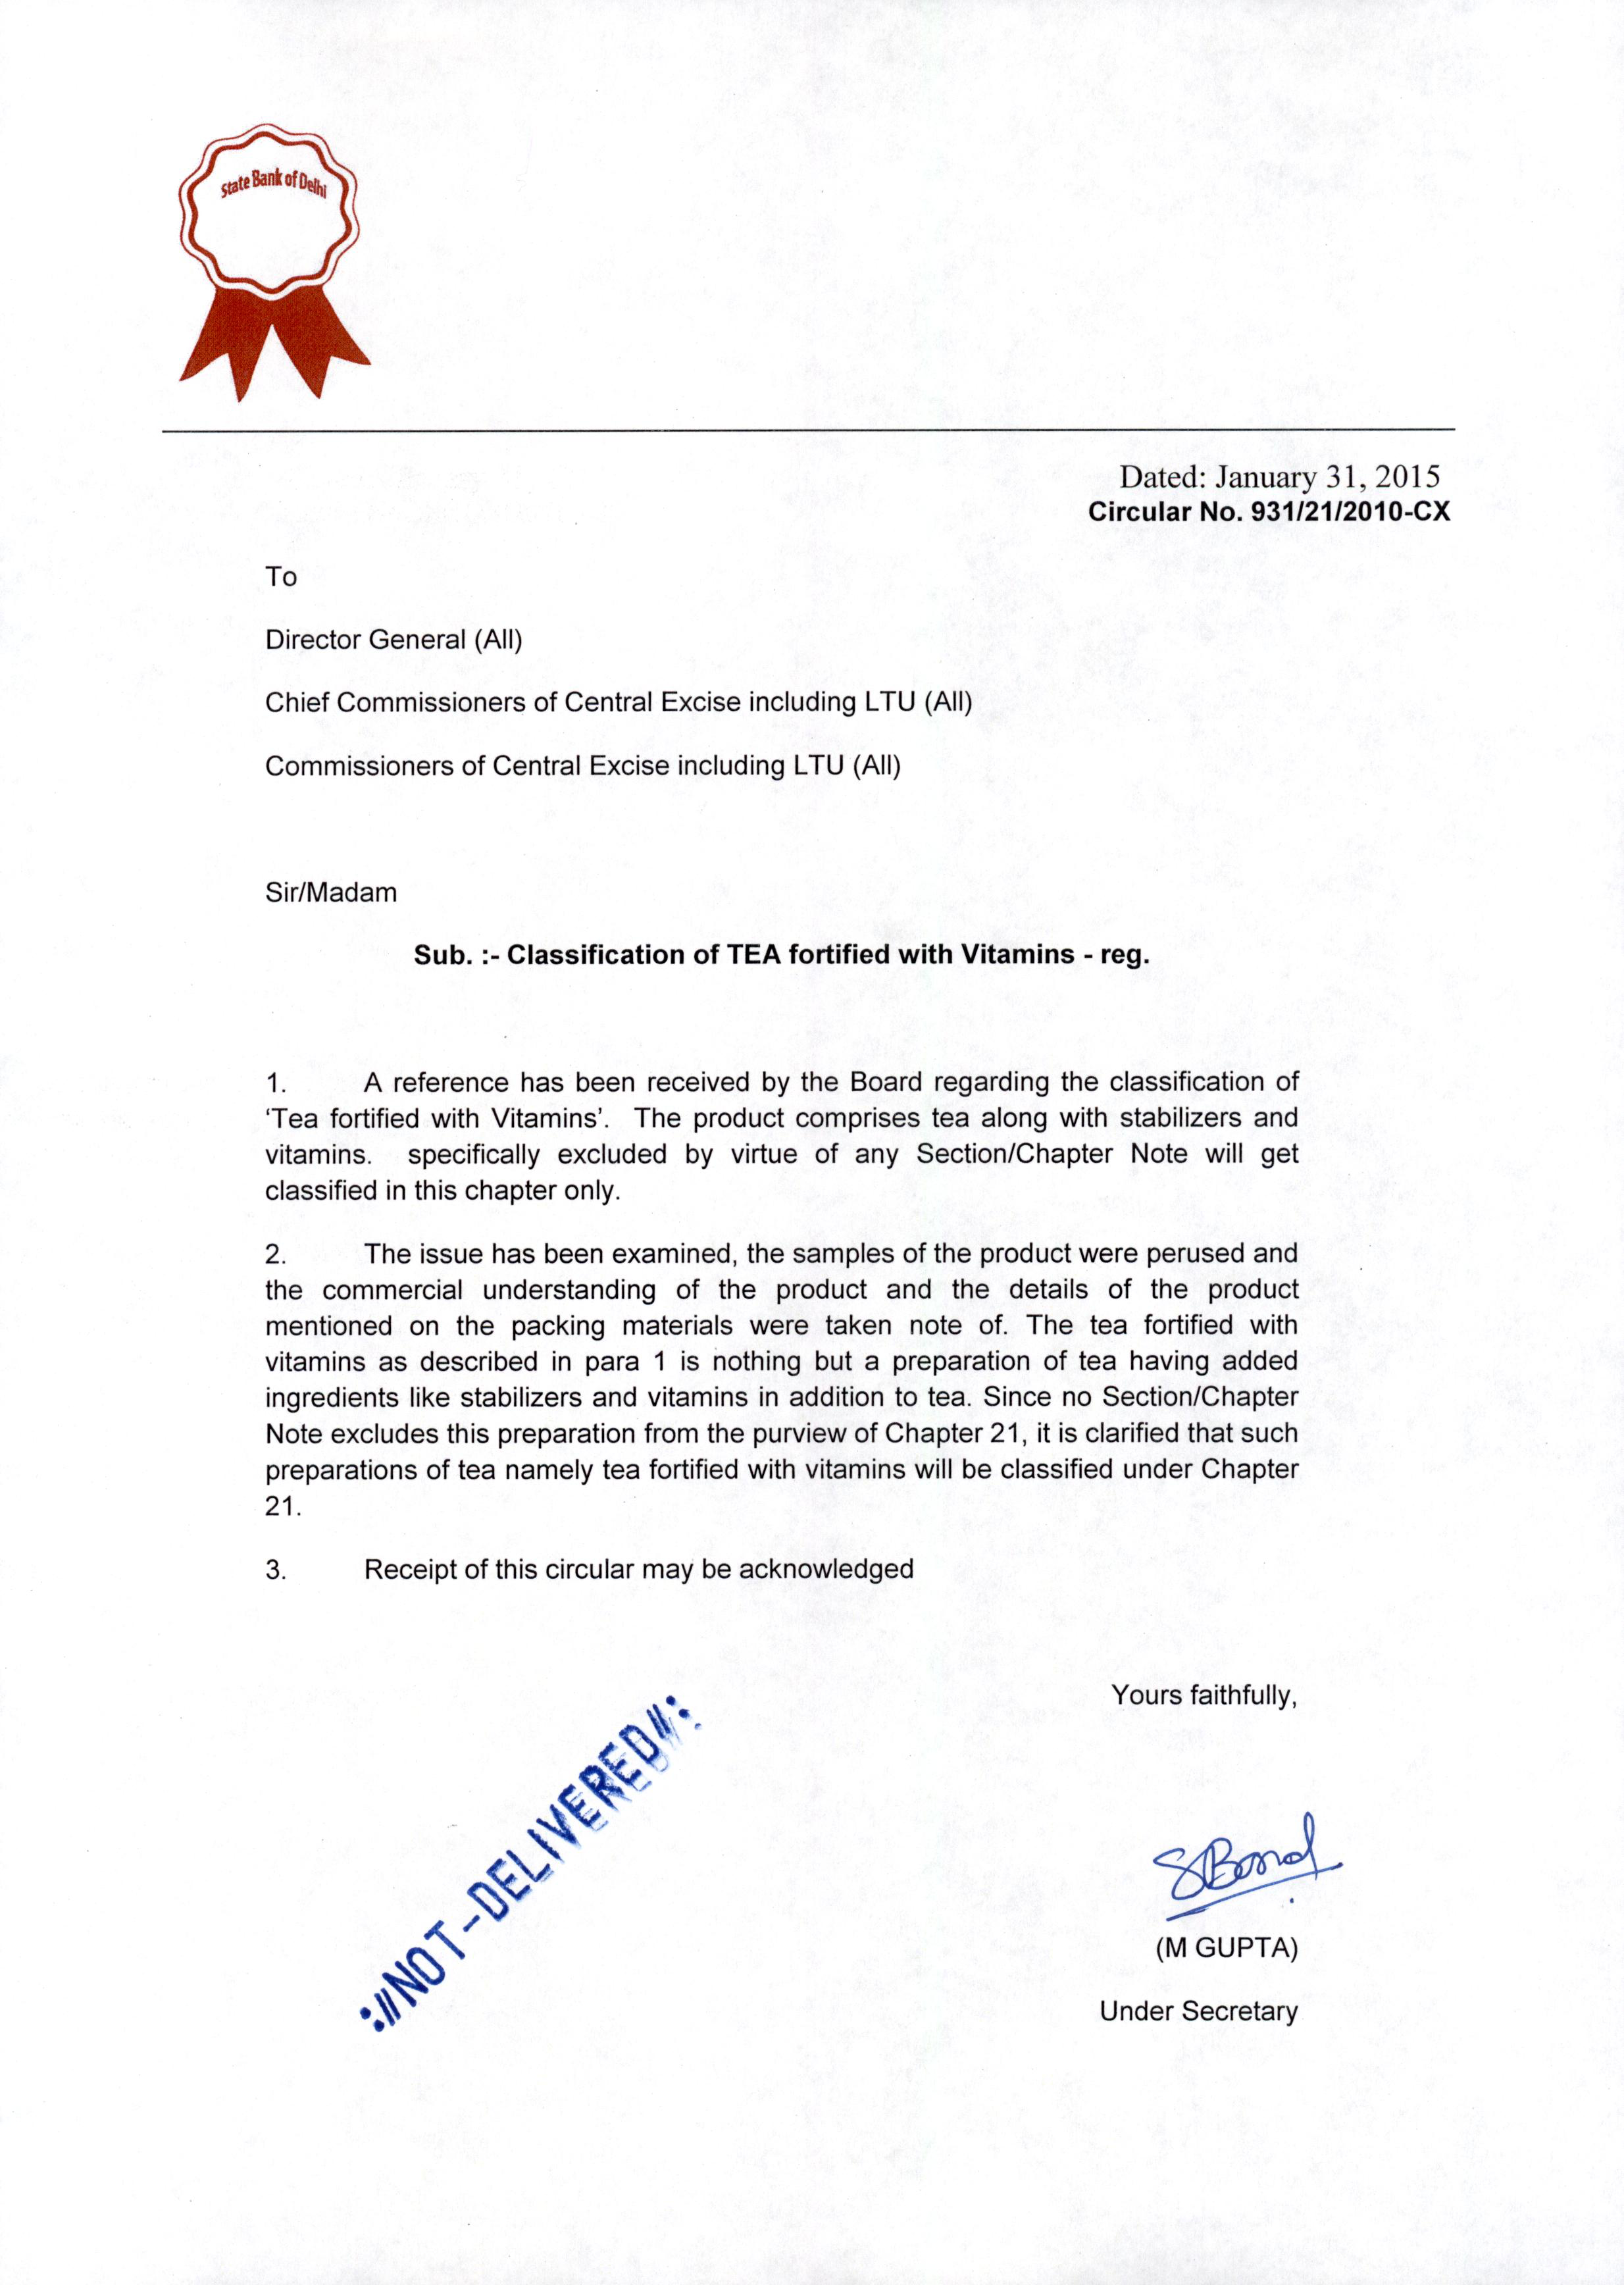Signature: (1148, 1803, 1348, 1921)
